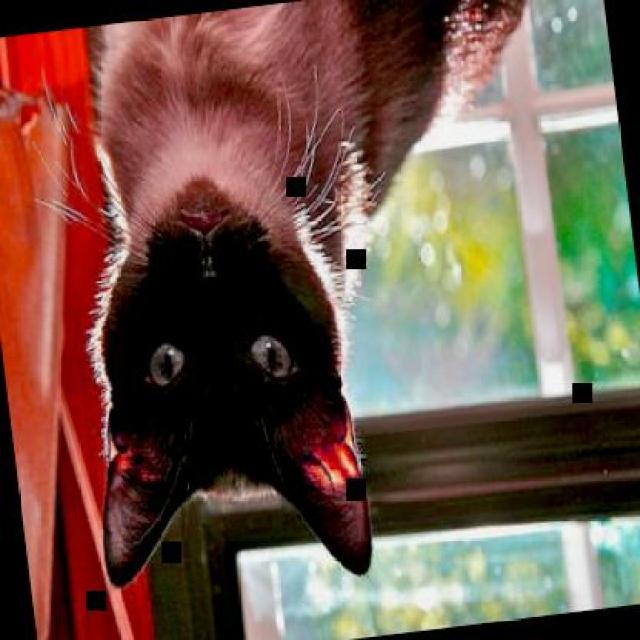cat: (35, 0, 616, 611)
